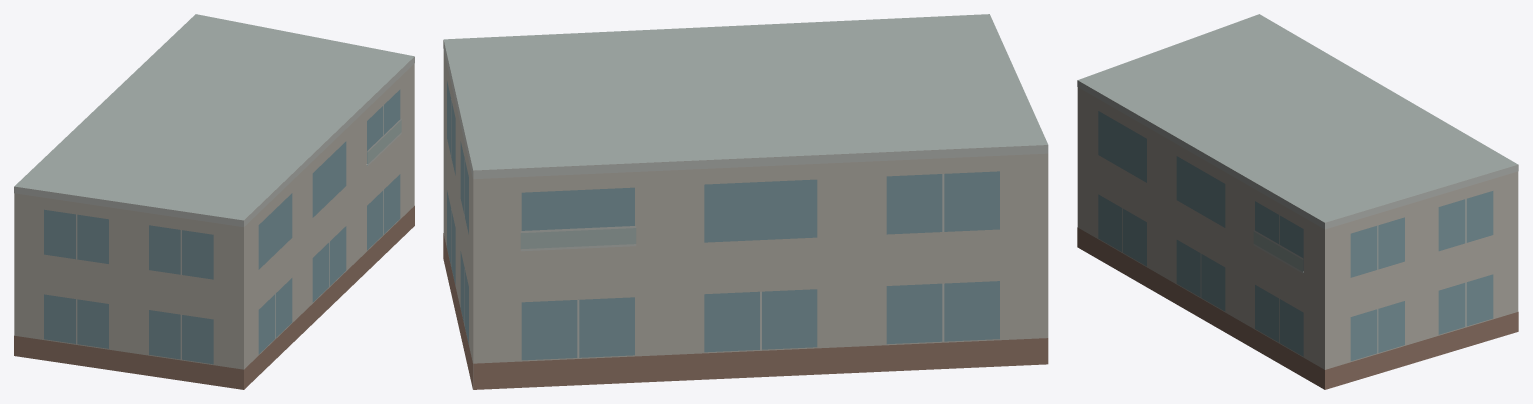
The model's file is survey-upis-32591231.glb.
The picture shows the model from 3 angles, left to right: view 1: azimuth 30°, elevation 25°; view 2: azimuth 150°, elevation 25°; view 3: azimuth 270°, elevation 25°; orthographic projection. The views are drawn at different scales.
Visible parts, largest first — view 1: survey-upis-32591231.tmp; view 2: survey-upis-32591231.tmp; view 3: survey-upis-32591231.tmp.
Part boxes in pixels (x1,y1,x2,y2): survey-upis-32591231.tmp: (14,14,414,389); survey-upis-32591231.tmp: (443,14,1048,389); survey-upis-32591231.tmp: (1077,14,1518,389).
Bounding box in the file's own units: 16.36 × 6.1 × 14.6.
